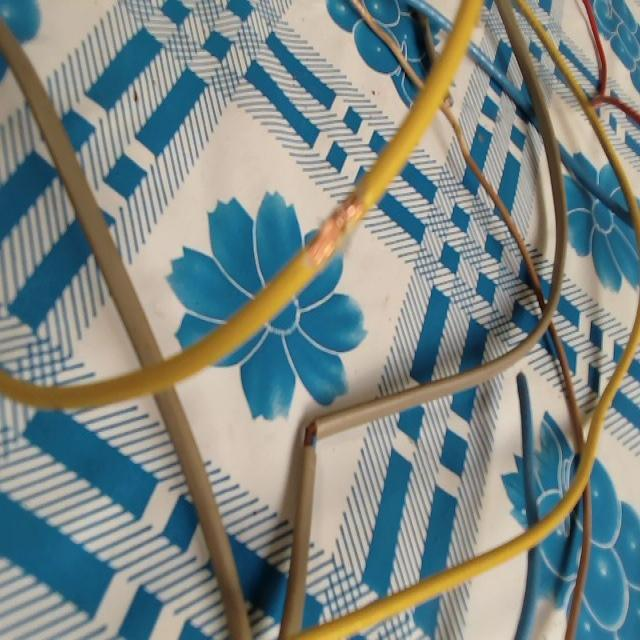-: (303, 188, 367, 273), (301, 414, 324, 450)
